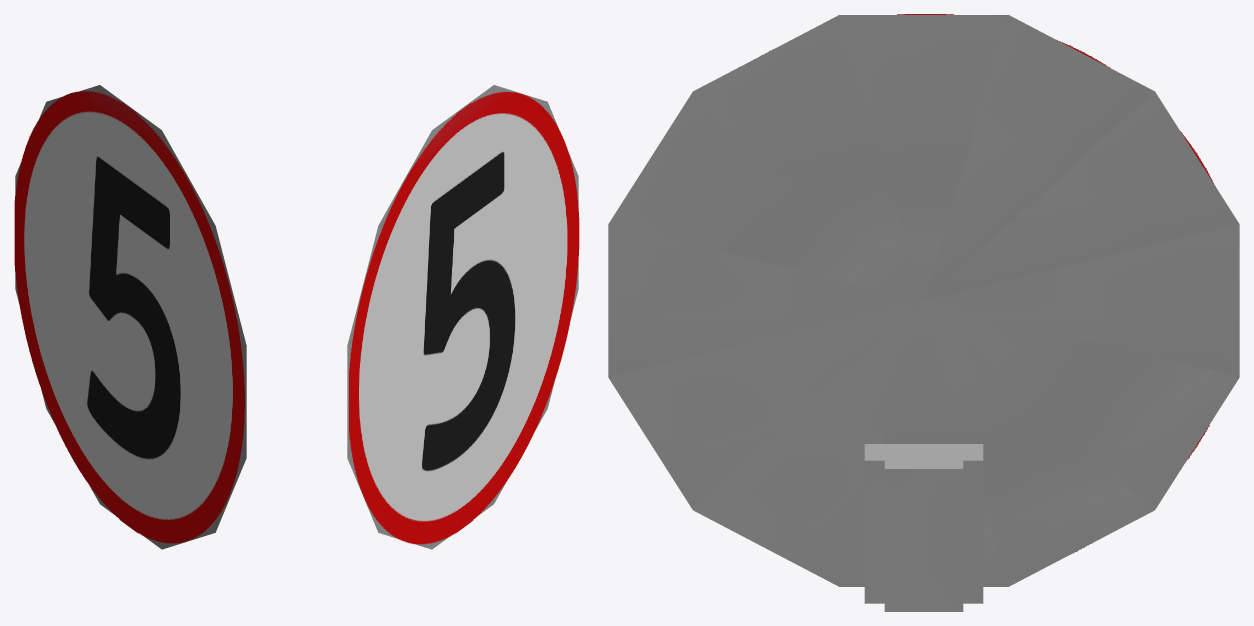
Rendered from speed_5_small.obj.
The picture shows the model from 3 angles, left to right: view 1: azimuth 30°, elevation 25°; view 2: azimuth 150°, elevation 25°; view 3: azimuth 270°, elevation 25°; orthographic projection. The views are drawn at different scales.
Visible parts, largest first — view 1: cube, circle; view 2: cube, circle; view 3: circle, cube.
Boxes of the visible parts, x1,y1,x2,y2 form: cube: (14,91,244,543); circle: (15,85,246,549); cube: (349,91,579,544); circle: (347,85,578,549); circle: (608,15,1239,586); cube: (761,14,1213,611).
Size of the model in its own units: 0.0484 by 0.5 by 0.5.
Materials: 2 (2 with a texture image).
